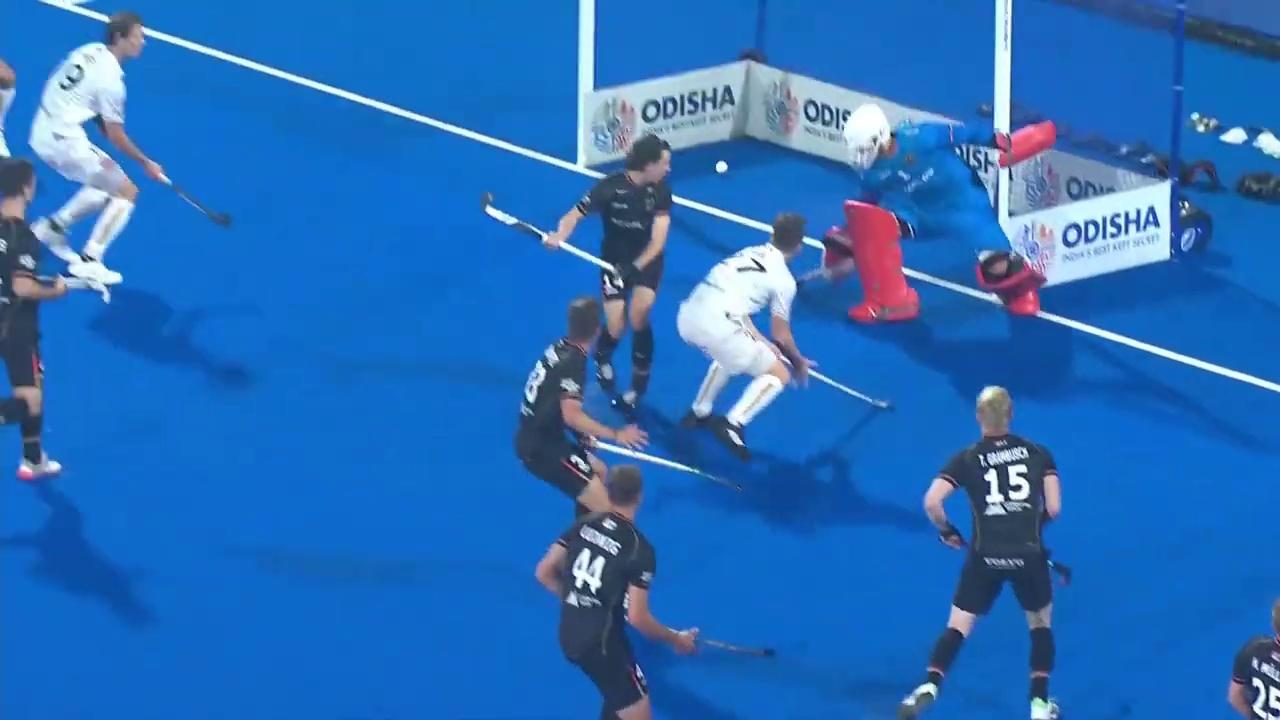ball: (704, 148, 735, 179)
